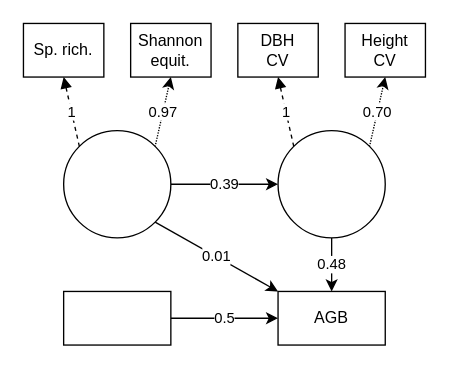
Some shapes in this 449 by 369 pixel diagram are drawn without their labels. The centre of each missing label's shape, as x and y in pixels:
Species diversity: the point at 116,183
Stem density: the point at 116,317
Structural diversity: the point at 331,183
